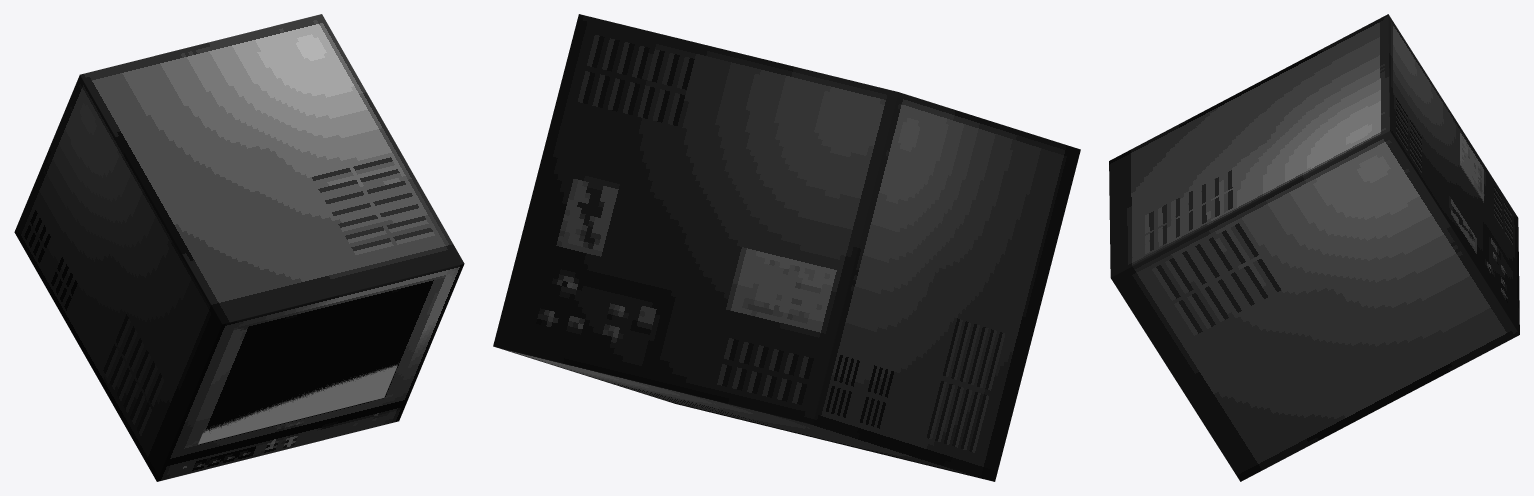
The picture shows the model from 3 angles, left to right: view 1: azimuth 30°, elevation 25°; view 2: azimuth 150°, elevation 25°; view 3: azimuth 270°, elevation 25°; orthographic projection. The views are drawn at different scales.
Visible parts, largest first — view 1: Object; view 2: Object; view 3: Object.
Part boxes in pixels (x1=…): Object: x1=14, y1=14, x2=464, y2=481; Object: x1=493, y1=14, x2=1080, y2=481; Object: x1=1109, y1=14, x2=1519, y2=481.
Size of the model in its own units: 0.6804 by 0.9387 by 0.9959.
Materials: 7 (7 with a texture image).
